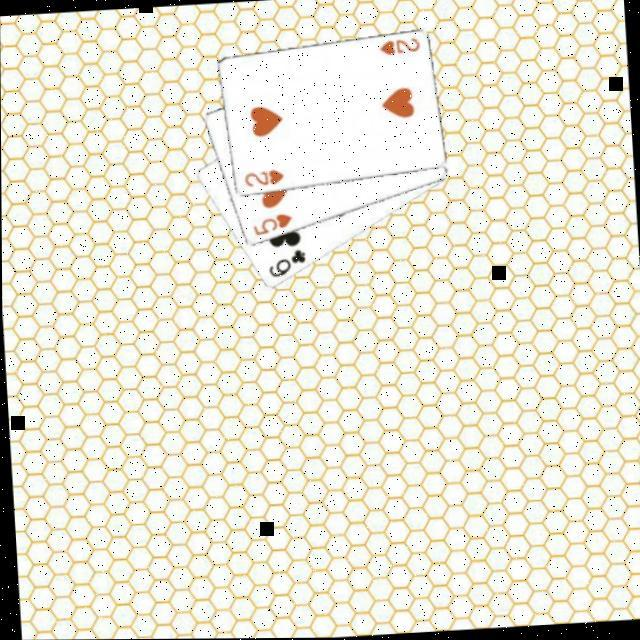2H: (240, 166, 288, 190), (376, 34, 424, 58)
5H: (250, 210, 296, 238)
6C: (264, 246, 310, 280)
